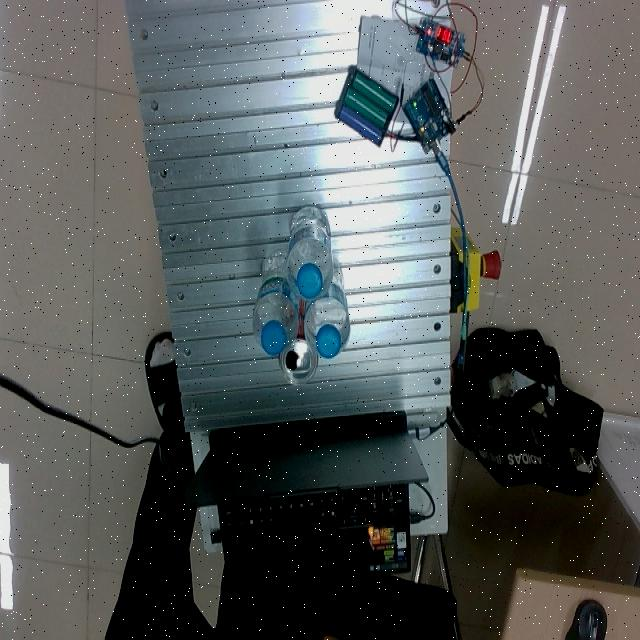coca: (278, 302, 318, 386)
lavie: (252, 251, 300, 356), (286, 206, 333, 302), (303, 263, 350, 357)
